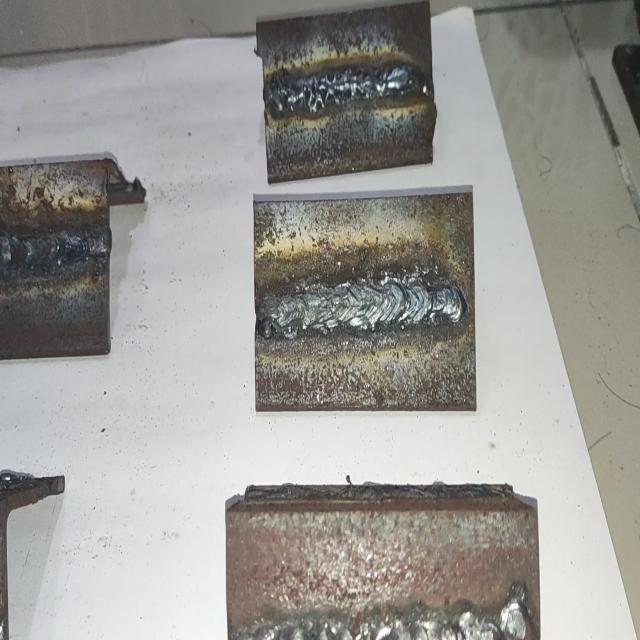Defect: (260, 67, 378, 116), (15, 231, 110, 274)
Welding Line: (253, 592, 534, 640), (257, 279, 470, 334), (263, 61, 430, 114), (0, 224, 108, 280)
Workpiece: (252, 188, 478, 418), (227, 504, 540, 640), (256, 4, 437, 186), (0, 156, 111, 365)
